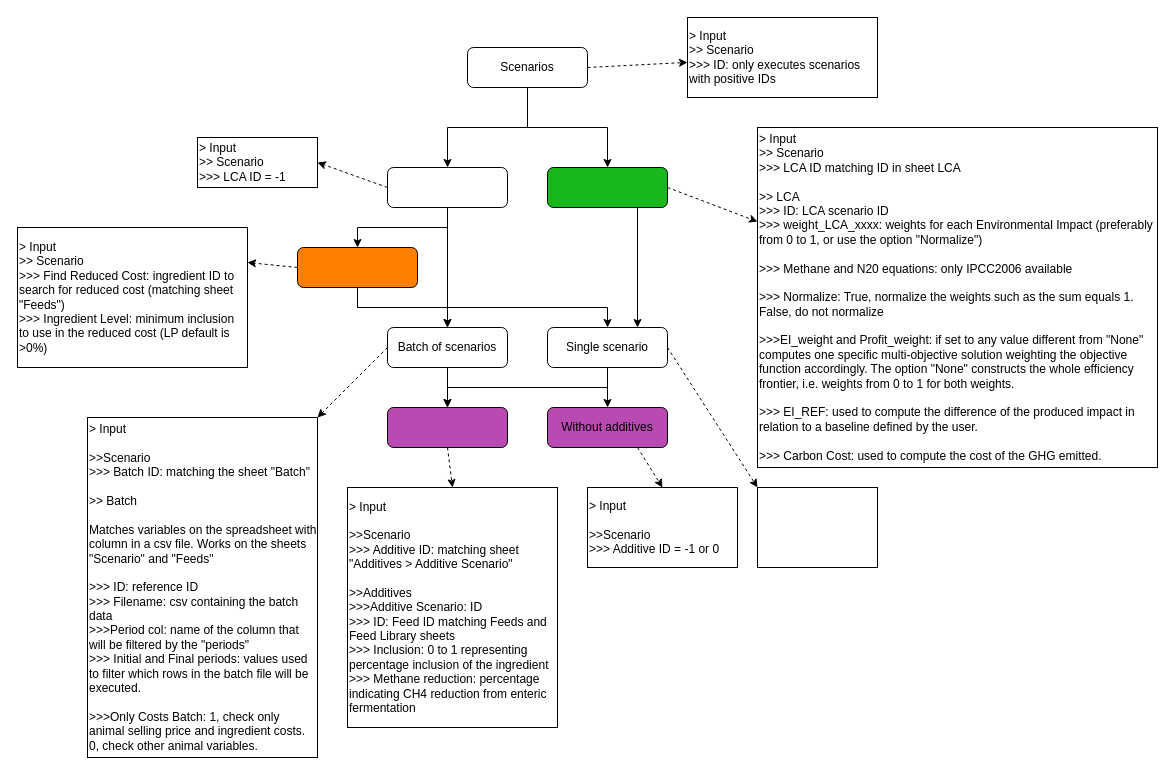
Image size: 1175x775. Some labels were removed from this diagram. The centre of each missing label's shape, as x and y in pixels:
"> Input >>Scenario >>> Batch ID = -1" goes at point 817,527.
"Find reduced cost" goes at point 357,267.
"Mono-objetive" goes at point 447,187.
"Multi-obective" goes at point 607,187.
"With additives" goes at point 447,427.
